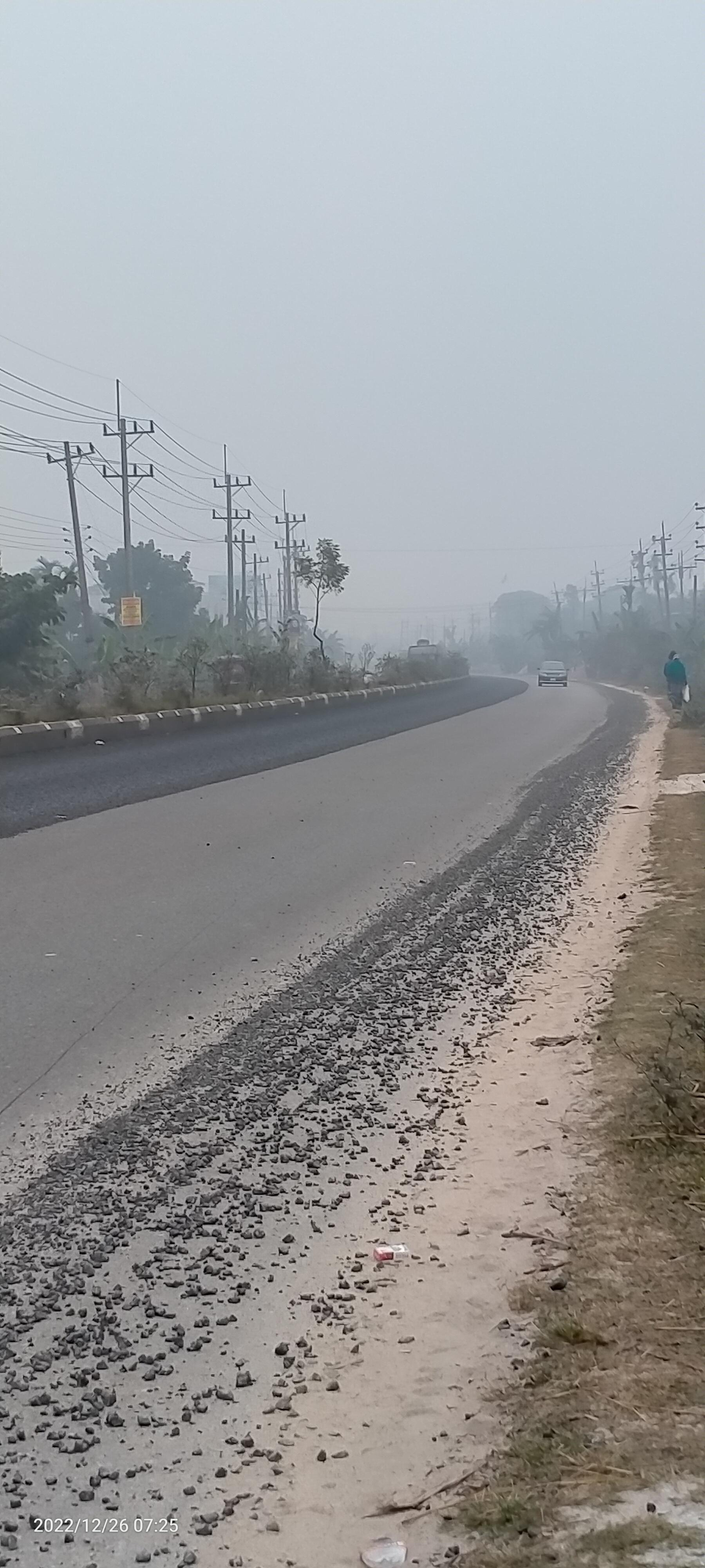Car: (521, 652, 589, 701)
